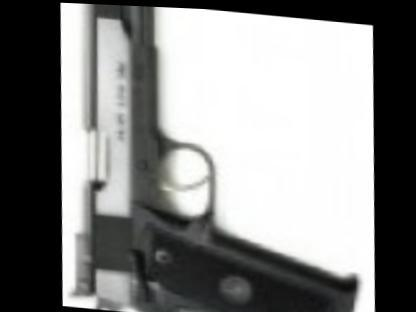pistol: (46, 1, 365, 311)
